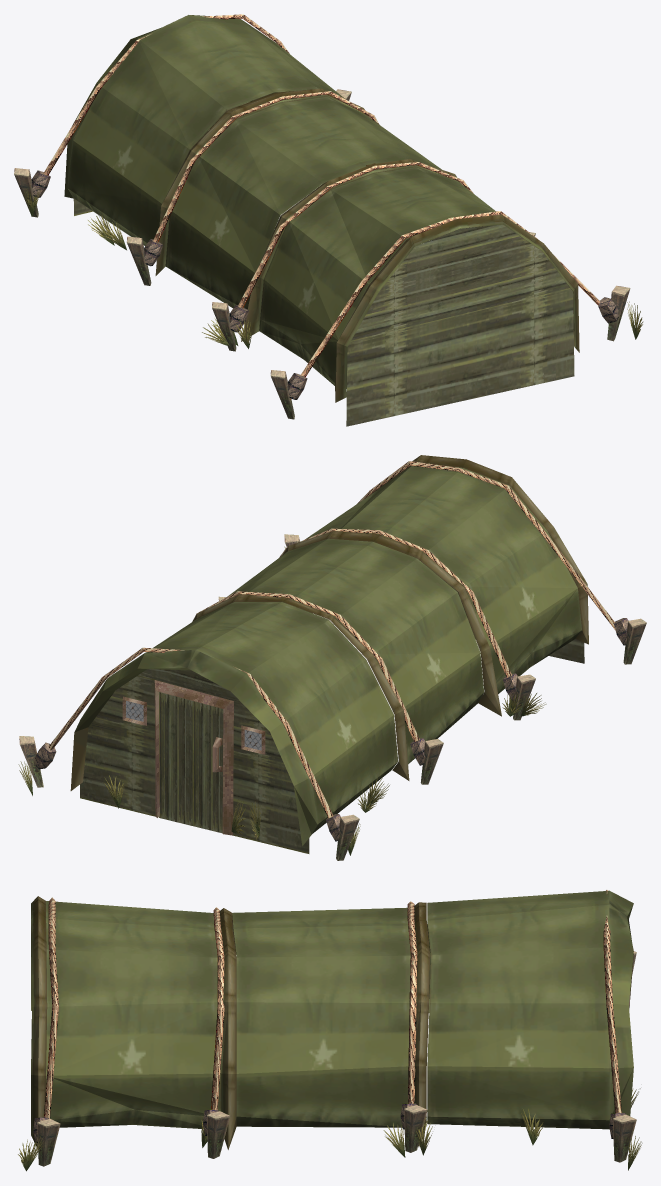
File: C1SMLARGETENTH.obj
3 renders of one model, top to bottom at view 1: azimuth 30°, elevation 25°; view 2: azimuth 150°, elevation 25°; view 3: azimuth 270°, elevation 25°, orthographic. The views are drawn at different scales.
Visible parts, largest first — view 1: Node 10, Node 2, Node 8, Node 6, Node 0, Node 11, Node 7, Node 9, Node 5, Node 4; view 2: Node 8, Node 4, Node 6, Node 2, Node 3, Node 0, Node 5, Node 11, Node 7, Node 9, Node 10; view 3: Node 8, Node 2, Node 6, Node 0, Node 4, Node 11, Node 7, Node 9, Node 5.
Part boxes in pixels (x1=…): Node 10: x1=346, y1=224, x2=574, y2=426; Node 2: x1=67, y1=15, x2=344, y2=245; Node 8: x1=241, y1=159, x2=579, y2=402; Node 6: x1=155, y1=88, x2=475, y2=309; Node 0: x1=14, y1=89, x2=643, y2=419; Node 11: x1=288, y1=211, x2=618, y2=399; Node 7: x1=144, y1=91, x2=379, y2=266; Node 9: x1=229, y1=162, x2=473, y2=332; Node 5: x1=31, y1=14, x2=289, y2=197; Node 4: x1=64, y1=15, x2=281, y2=215; Node 8: x1=282, y1=455, x2=588, y2=716; Node 4: x1=70, y1=649, x2=317, y2=853; Node 6: x1=192, y1=538, x2=483, y2=780; Node 2: x1=80, y1=602, x2=398, y2=833; Node 3: x1=159, y1=692, x2=223, y2=833; Node 0: x1=18, y1=534, x2=646, y2=860; Node 5: x1=35, y1=647, x2=340, y2=841; Node 11: x1=357, y1=461, x2=628, y2=645; Node 7: x1=193, y1=591, x2=425, y2=765; Node 9: x1=279, y1=528, x2=517, y2=700; Node 10: x1=417, y1=558, x2=584, y2=663; Node 8: x1=31, y1=896, x2=236, y2=1149; Node 2: x1=427, y1=890, x2=609, y2=1129; Node 6: x1=232, y1=902, x2=430, y2=1147; Node 0: x1=18, y1=951, x2=642, y2=1171; Node 4: x1=609, y1=890, x2=633, y2=1121; Node 11: x1=33, y1=897, x2=58, y2=1143; Node 7: x1=400, y1=901, x2=417, y2=1129; Node 9: x1=203, y1=907, x2=224, y2=1135; Node 5: x1=603, y1=890, x2=625, y2=1139.
Size of the model in its own units: 7.93 by 3.97 by 11.26.
Materials: 16 (16 with a texture image).
